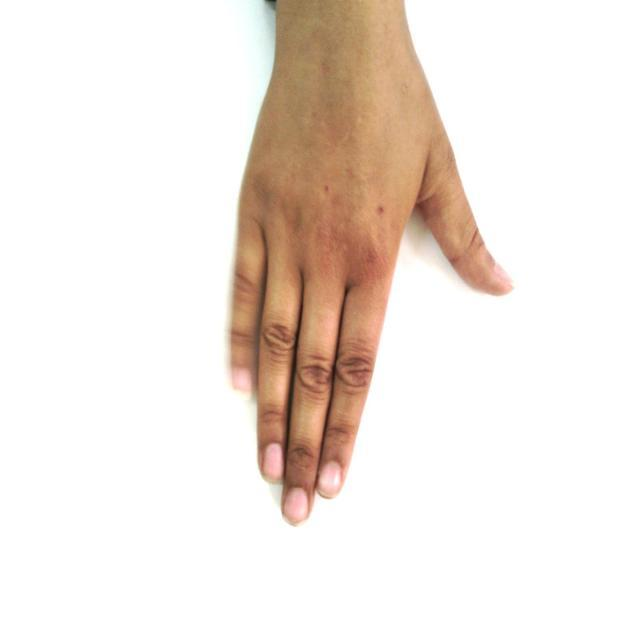Fingernail: (284, 489, 308, 522), (320, 462, 341, 496), (264, 444, 282, 481), (233, 369, 252, 394), (494, 262, 514, 285)
